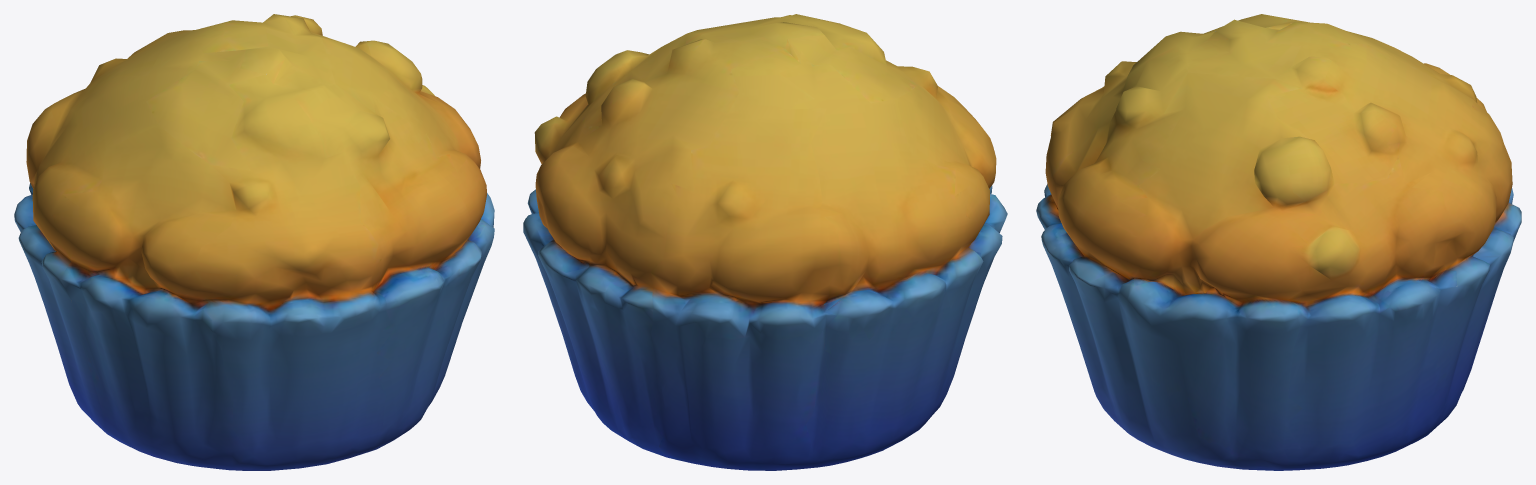
Rendered from muffin.glb.
The picture shows the model from 3 angles, left to right: view 1: azimuth 30°, elevation 25°; view 2: azimuth 150°, elevation 25°; view 3: azimuth 270°, elevation 25°; orthographic projection.
Parts seen in each view (by area): view 1: tripo_node_524aa3dc-358a-42ae-99b5-6a9931b20fe5; view 2: tripo_node_524aa3dc-358a-42ae-99b5-6a9931b20fe5; view 3: tripo_node_524aa3dc-358a-42ae-99b5-6a9931b20fe5.
Part boxes in pixels (x1=…): tripo_node_524aa3dc-358a-42ae-99b5-6a9931b20fe5: x1=14, y1=14, x2=494, y2=470; tripo_node_524aa3dc-358a-42ae-99b5-6a9931b20fe5: x1=523, y1=14, x2=1007, y2=470; tripo_node_524aa3dc-358a-42ae-99b5-6a9931b20fe5: x1=1036, y1=14, x2=1521, y2=470.
Bounding box in the file's own units: 0.9986 × 0.8414 × 0.9994.
1 material, 1 textured.
